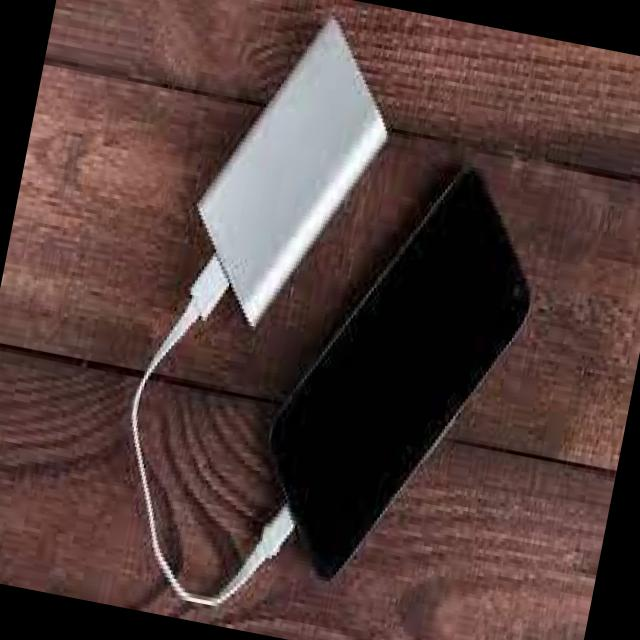portable-charger: (170, 0, 410, 345)
